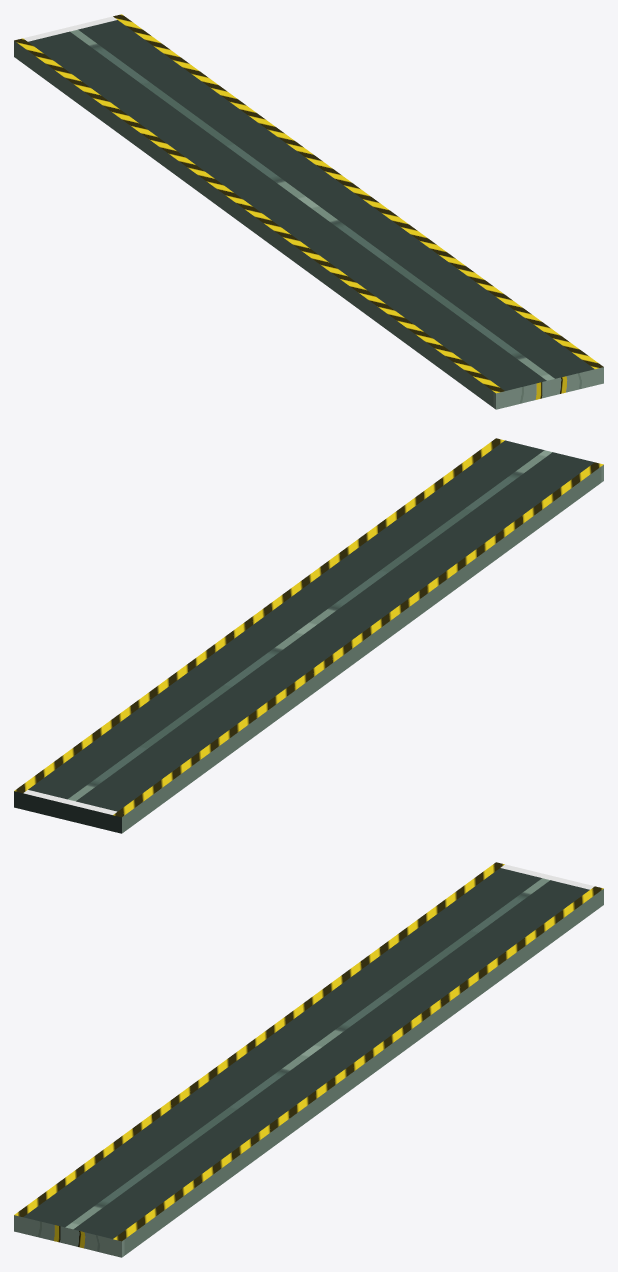
Rendered from map_3_bridge.fbx.
The picture shows the model from 3 angles, top to bottom: view 1: azimuth 30°, elevation 25°; view 2: azimuth 150°, elevation 25°; view 3: azimuth 330°, elevation 25°; orthographic projection.
Parts seen in each view (by area): view 1: polySurface2; view 2: polySurface2; view 3: polySurface2.
Part boxes in pixels (x1=…): polySurface2: x1=14, y1=14, x2=603, y2=409; polySurface2: x1=14, y1=438, x2=603, y2=833; polySurface2: x1=14, y1=862, x2=603, y2=1257.
Bounding box in the file's own units: 1378 × 200 × 10664.
